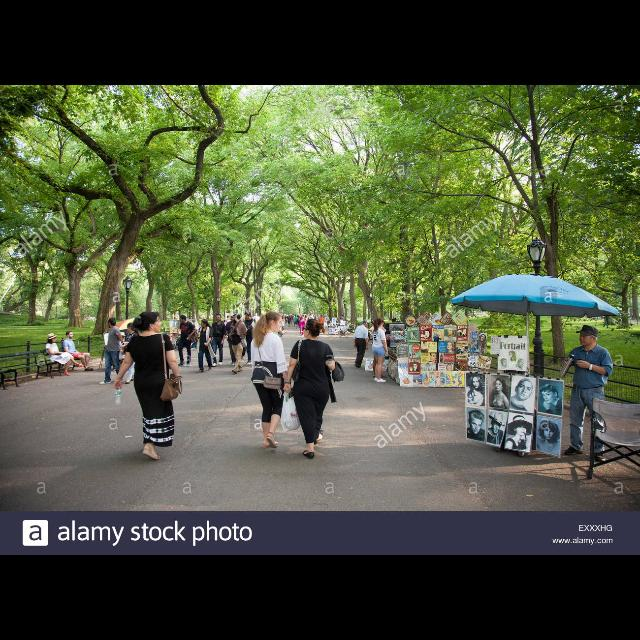head: (140, 312, 162, 334), (580, 327, 598, 347), (265, 312, 281, 334), (304, 319, 320, 339), (108, 318, 118, 330), (126, 323, 136, 333), (375, 318, 385, 328), (234, 314, 242, 324), (201, 320, 209, 330), (180, 314, 187, 324), (245, 313, 253, 321), (230, 314, 238, 322), (66, 331, 74, 339), (48, 335, 56, 343), (215, 314, 222, 322), (364, 321, 370, 329), (300, 318, 302, 322)
person: (111, 309, 182, 465), (279, 318, 347, 460), (559, 324, 615, 466), (250, 310, 292, 450), (97, 316, 127, 386), (44, 333, 84, 377), (61, 330, 95, 372), (226, 312, 248, 376), (370, 319, 390, 385), (175, 314, 199, 368), (121, 322, 141, 386), (196, 319, 218, 375), (209, 314, 229, 368), (225, 314, 243, 366), (352, 320, 370, 370), (242, 312, 255, 366), (296, 316, 308, 336)
